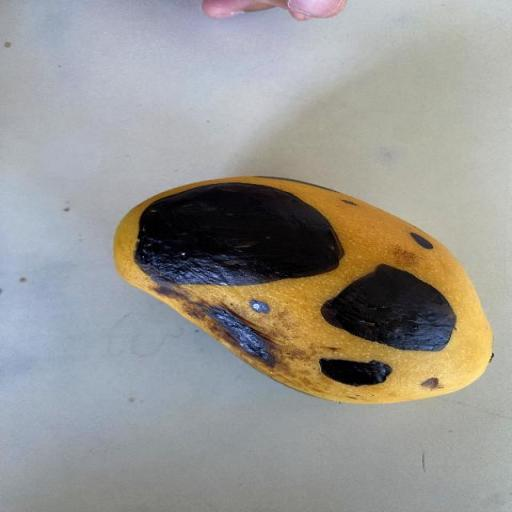mango-overripe: (92, 144, 512, 437)
